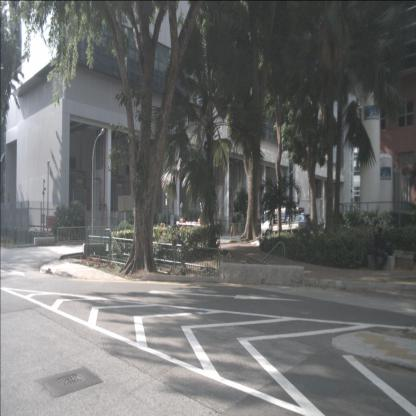human-pedestrian-adult: (371, 226, 388, 271)
vehicle-car: (279, 212, 311, 238)
vehicle-truck: (261, 206, 307, 242)
